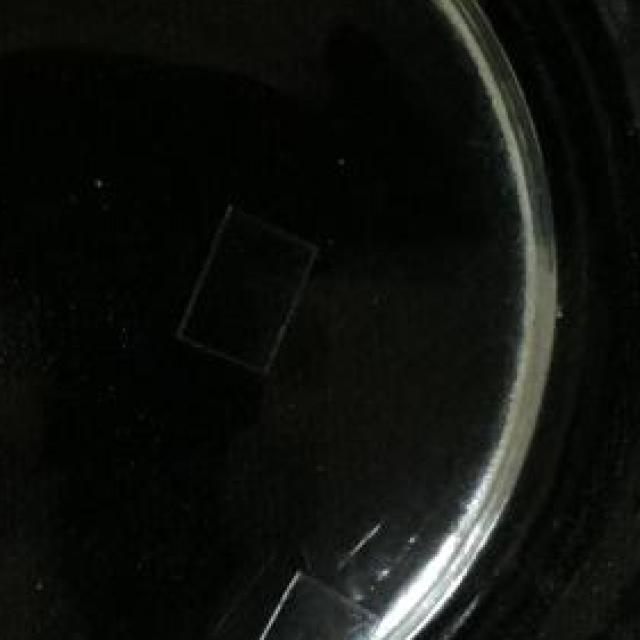Microplastic: (173, 190, 324, 388), (216, 561, 390, 640)
